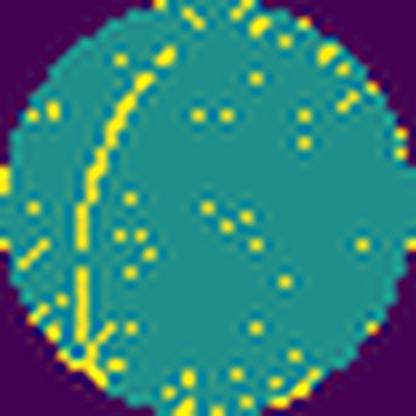Scratch: (66, 68, 160, 254), (69, 261, 118, 389)
